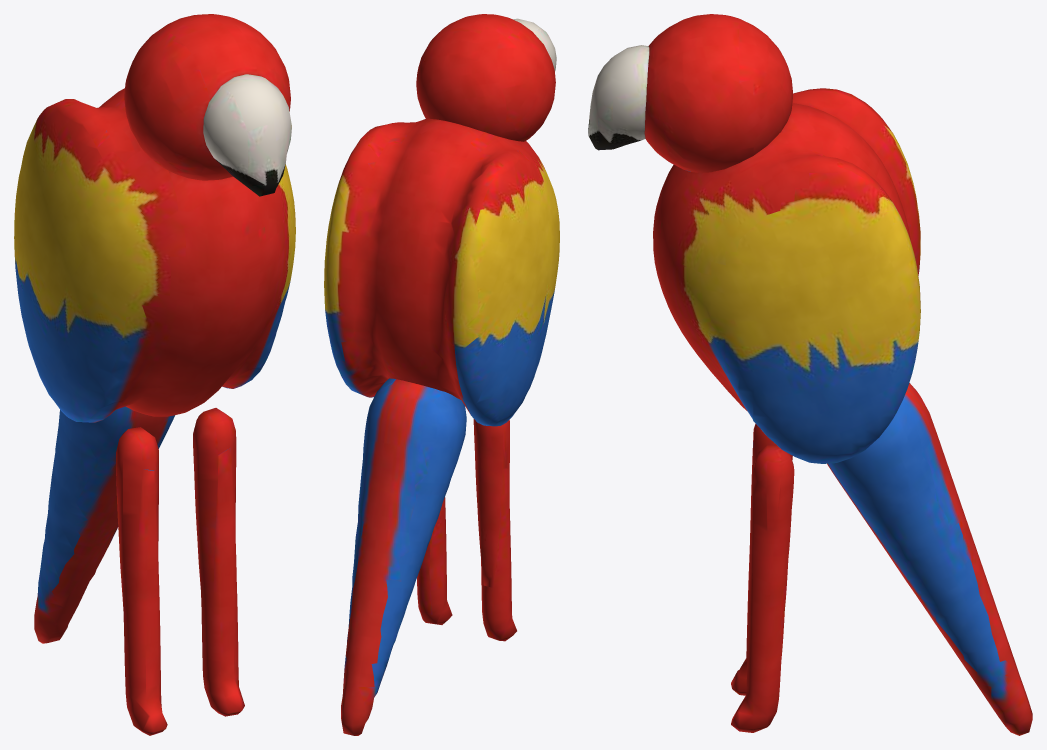
File: animal_parrot.glb
3 views of the same model, side by side, from view 1: azimuth 30°, elevation 25°; view 2: azimuth 150°, elevation 25°; view 3: azimuth 270°, elevation 25° (orthographic). The views are drawn at different scales.
Visible parts, largest first — view 1: animal_parrot, head, tail, leg1, leg0; view 2: animal_parrot, tail, head, leg0, leg1; view 3: animal_parrot, tail, head, leg1, leg0.
Part boxes in pixels (box(x1,y1,x2,y2)): animal_parrot: box(14, 88, 295, 422); head: box(124, 14, 291, 196); tail: box(34, 406, 174, 643); leg1: box(193, 408, 244, 716); leg0: box(116, 427, 167, 735); animal_parrot: box(324, 118, 559, 426); tail: box(341, 378, 466, 735); head: box(416, 14, 556, 141); leg0: box(473, 419, 516, 641); leg1: box(417, 497, 452, 624); animal_parrot: box(653, 88, 920, 463); tail: box(827, 383, 1032, 735); head: box(588, 14, 792, 172); leg1: box(731, 445, 794, 732); leg0: box(731, 423, 792, 695).
Bounding box in the file's own units: 0.0871 × 0.2801 × 0.1586.
1 material, 1 textured.
